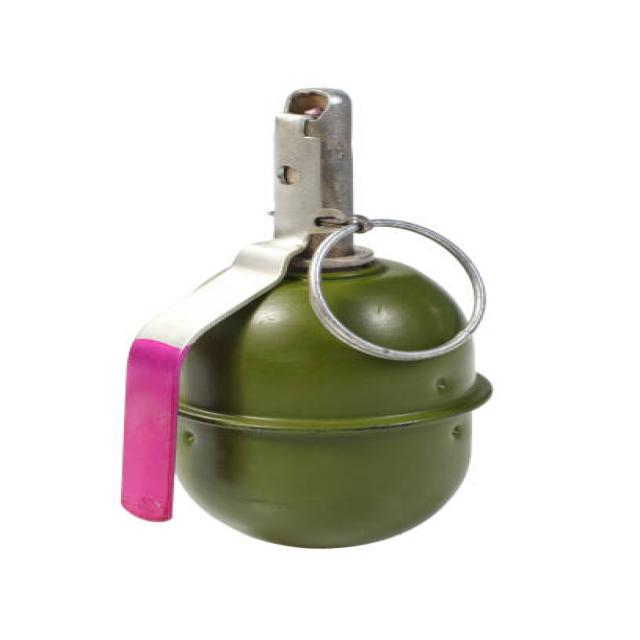grenade: (98, 76, 509, 553)
